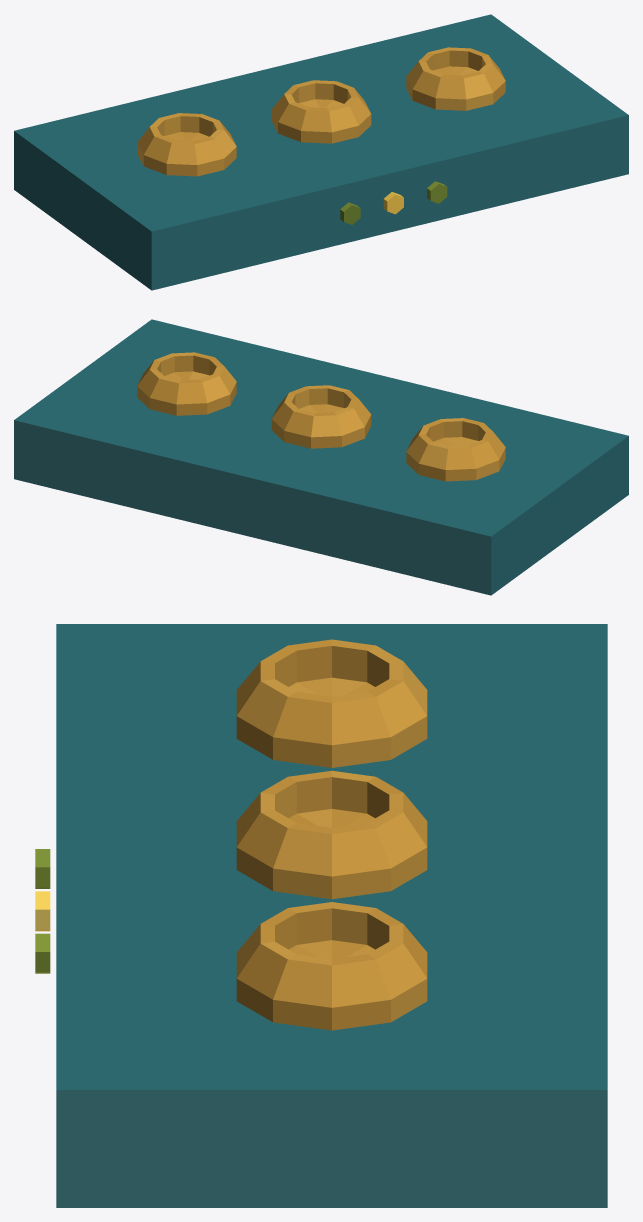
The model's file is C03_Incubator_3Egg.fbx.
3 renders of one model, top to bottom at view 1: azimuth 30°, elevation 25°; view 2: azimuth 150°, elevation 25°; view 3: azimuth 270°, elevation 25°, orthographic. The views are drawn at different scales.
Parts seen in each view (by area): view 1: C03_Incubator_3Egg.002; view 2: C03_Incubator_3Egg.002; view 3: C03_Incubator_3Egg.002.
Boxes of the visible parts, box(x1,y1,x2,y2) form: C03_Incubator_3Egg.002: box(14, 14, 628, 290); C03_Incubator_3Egg.002: box(14, 319, 628, 595); C03_Incubator_3Egg.002: box(35, 624, 607, 1207).
Bounding box in the file's own units: 1.1 × 0.19 × 0.571.
